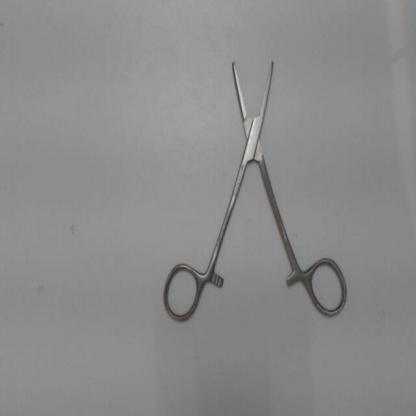Mayo Needle Holder: (154, 42, 352, 328)
